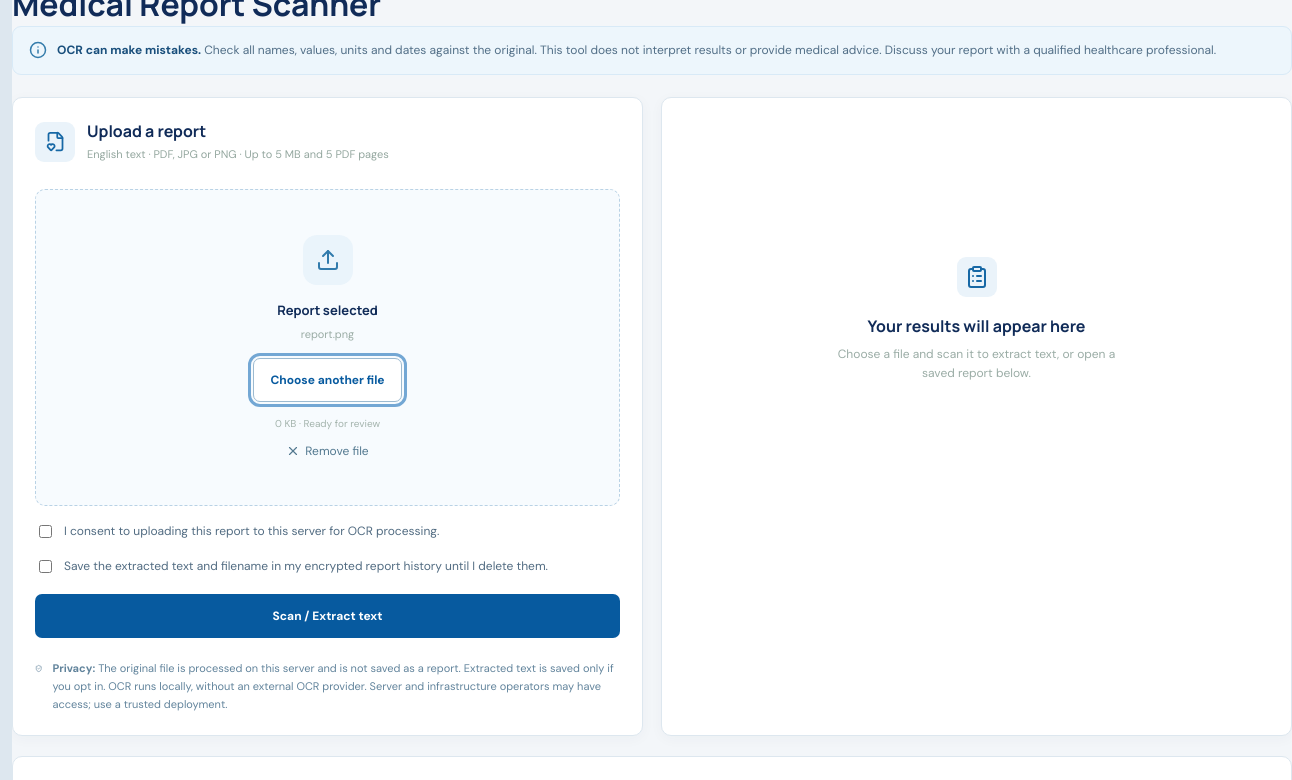
Test: scanner asks for consent and saves only when opted in; history can be deleted
The image size is (1292, 780).
Earlier steps of the test are not shown.
Click the button "Scan / Extract text" at (328, 616), box top-left (35, 594), bottom-right (620, 638)
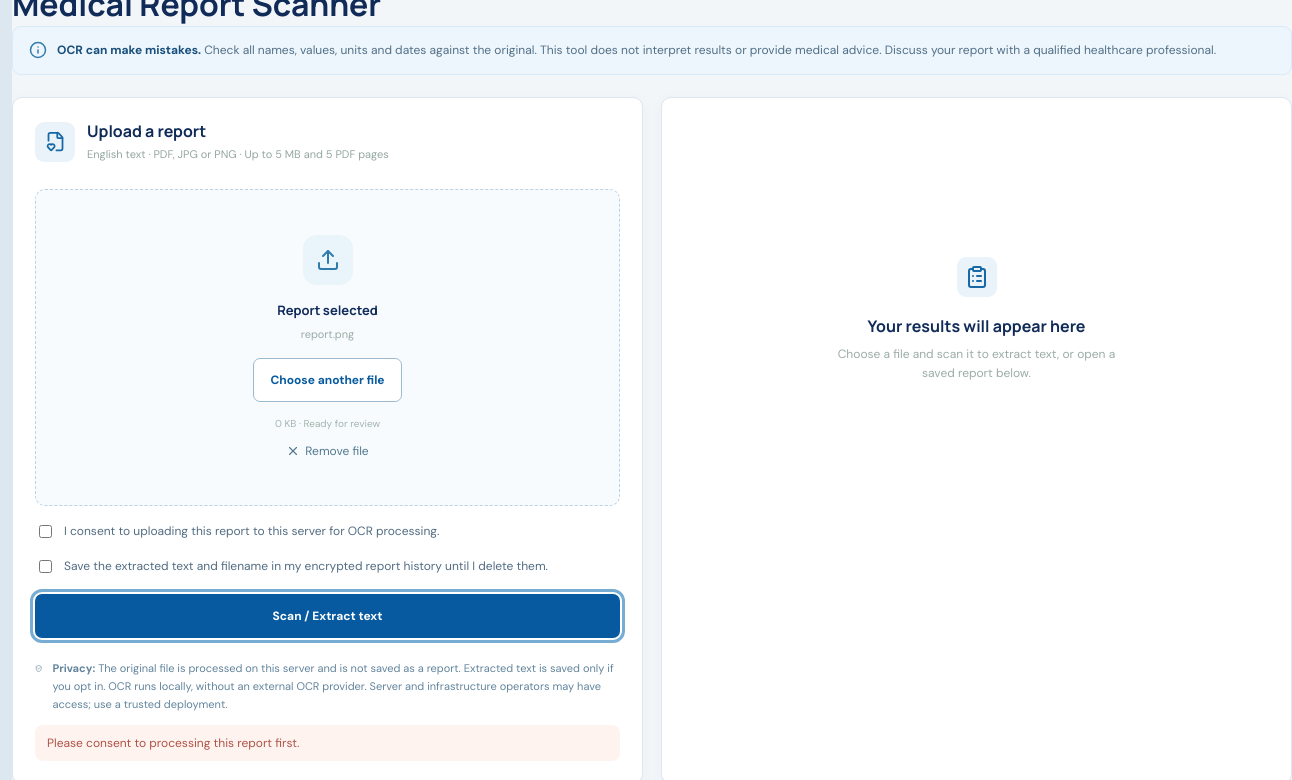
Expected: the message shows "consent", top-left (47, 735), bottom-right (299, 751)
Click the checkbox labelled "I consent" at (46, 532), box top-left (39, 525), bottom-right (52, 538)
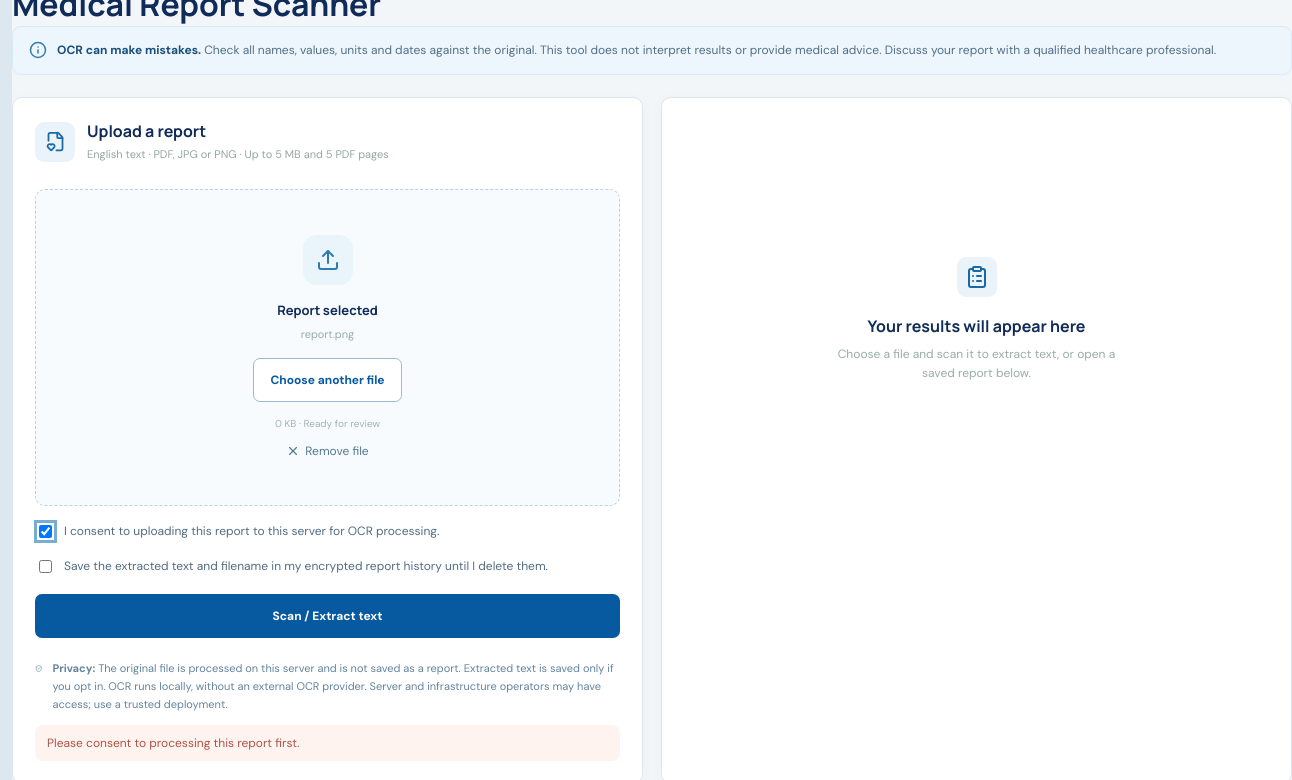
Click the checkbox labelled "Save the extracted text" at (46, 567), box top-left (39, 560), bottom-right (52, 573)
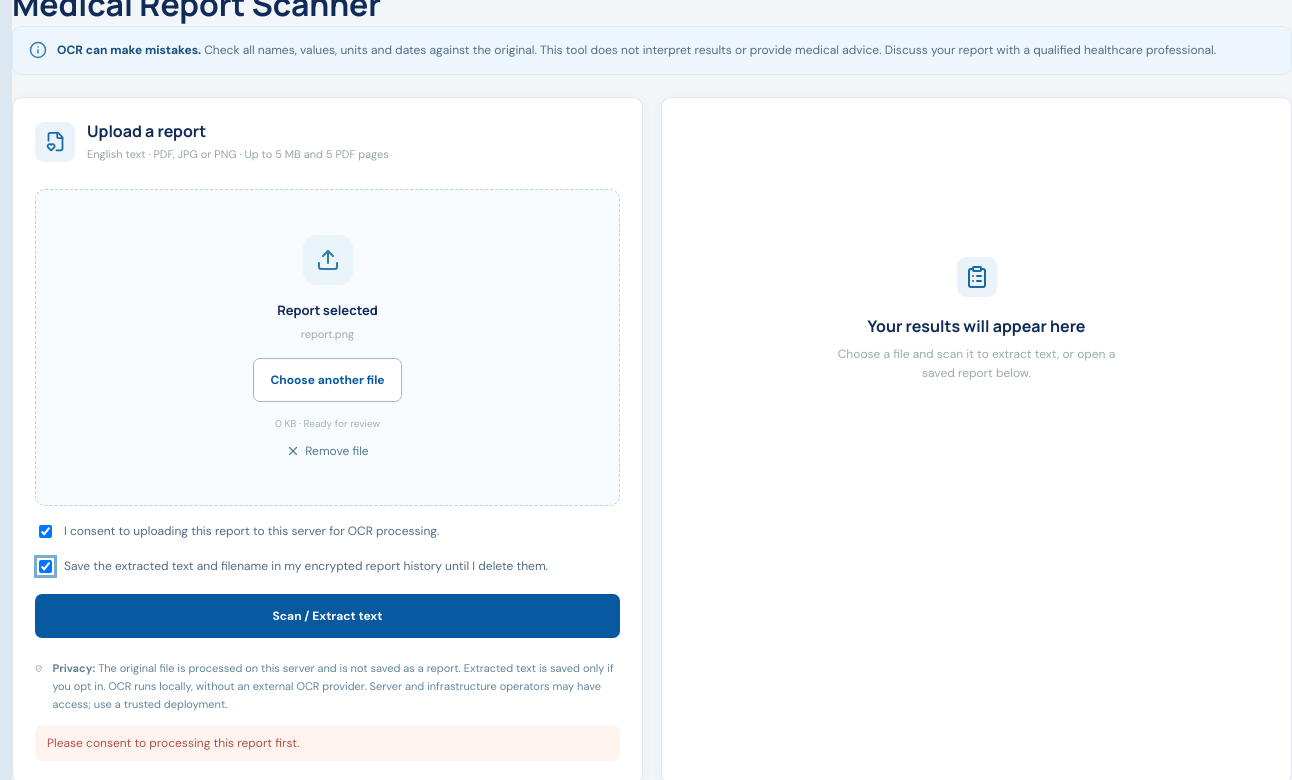
Click the button "Scan / Extract text" at (328, 616), box top-left (35, 594), bottom-right (620, 638)
(page scrolled)
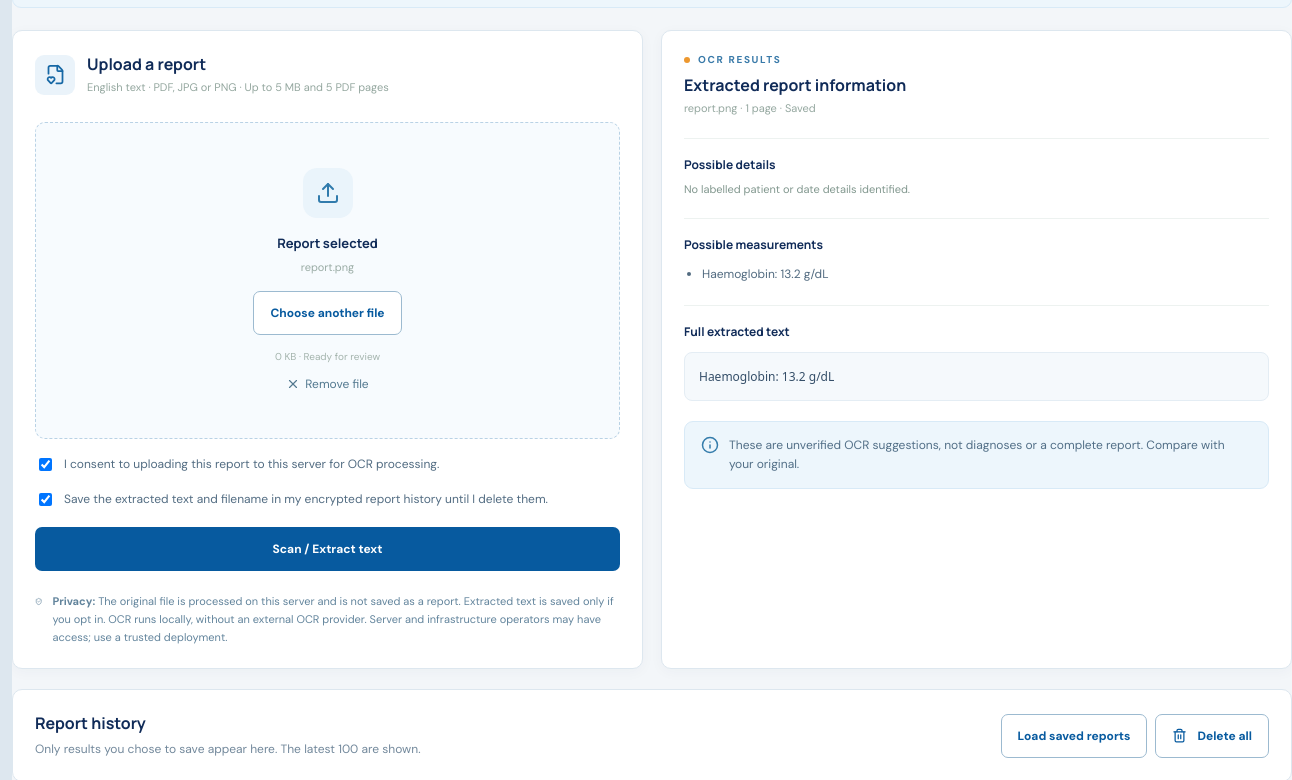
Expected: the heading "Extracted report information" is shown, top-left (684, 74), bottom-right (906, 96)
Expected: the list item "Haemoglobin: 13.2 g/dL" is shown, top-left (702, 266), bottom-right (828, 282)
Click the button "Load saved reports" at (1074, 736), box top-left (1001, 714), bottom-right (1147, 758)
(page scrolled)
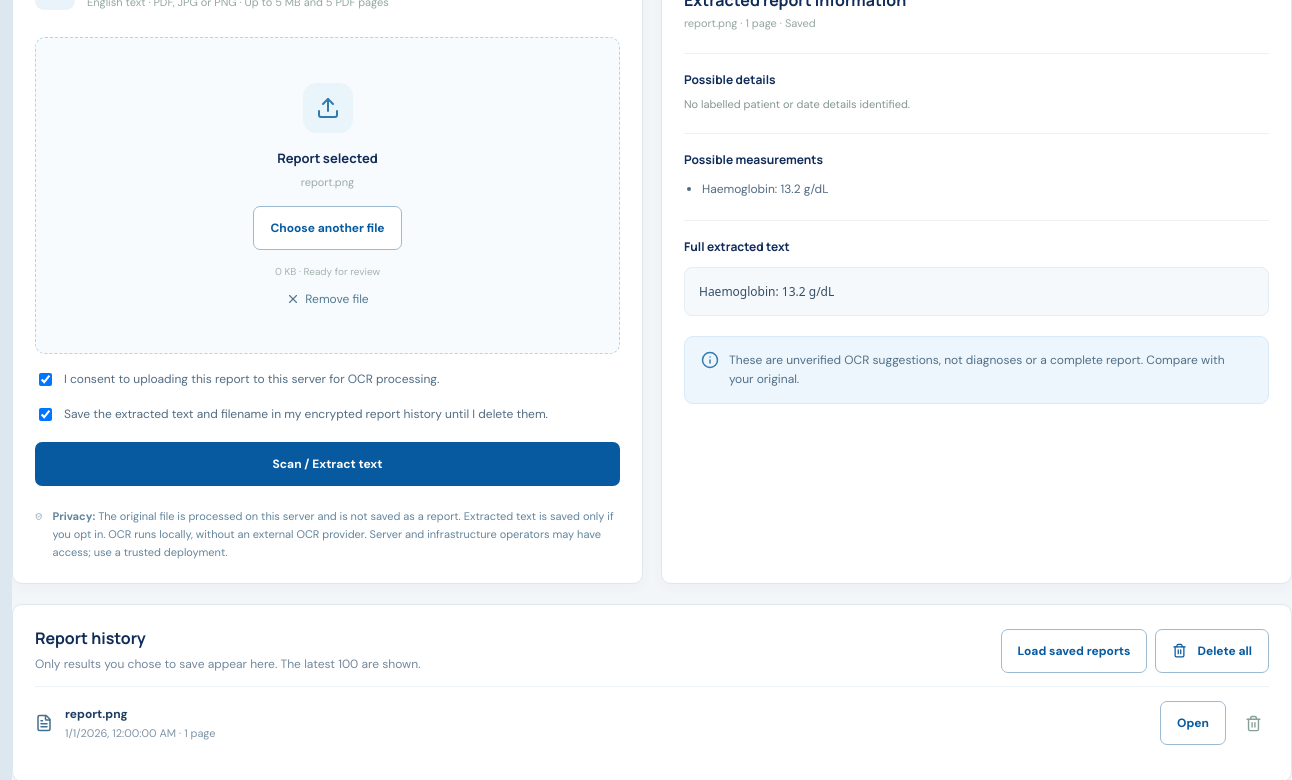
Expected: the button named "Delete report.png" is shown
Click the button named "Delete report.png" at (1254, 723), box top-left (1238, 708), bottom-right (1269, 739)
(page scrolled)
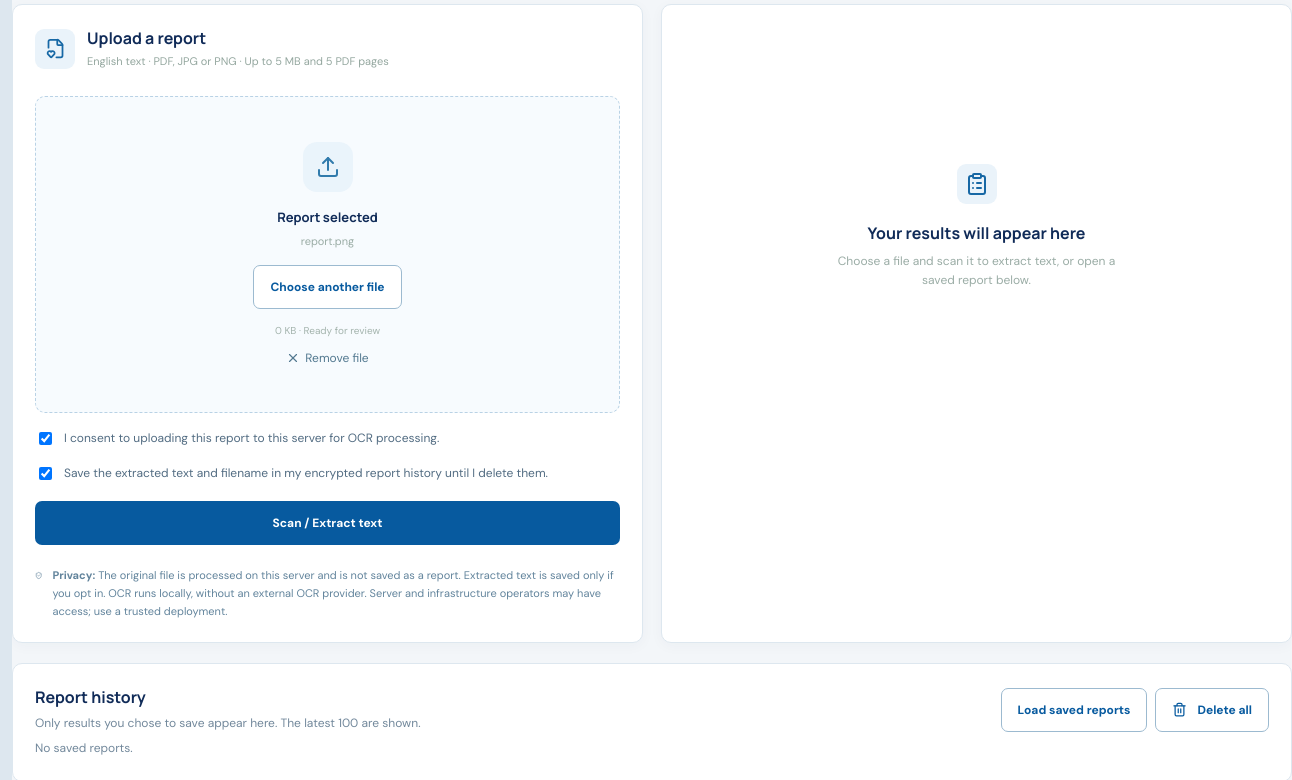
Expected: the text "No saved reports." is shown, top-left (35, 740), bottom-right (133, 756)
